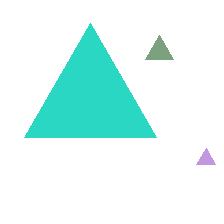triangle: (24, 23, 156, 137), (145, 35, 173, 59), (196, 148, 215, 164)
